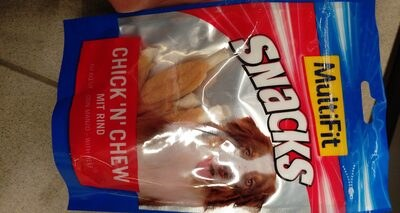Snacks: (20, 11, 380, 202)
